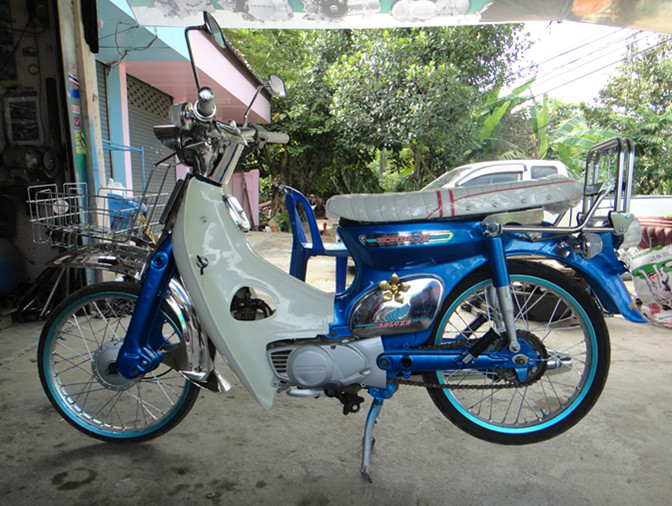motorcycle: (26, 85, 637, 449)
